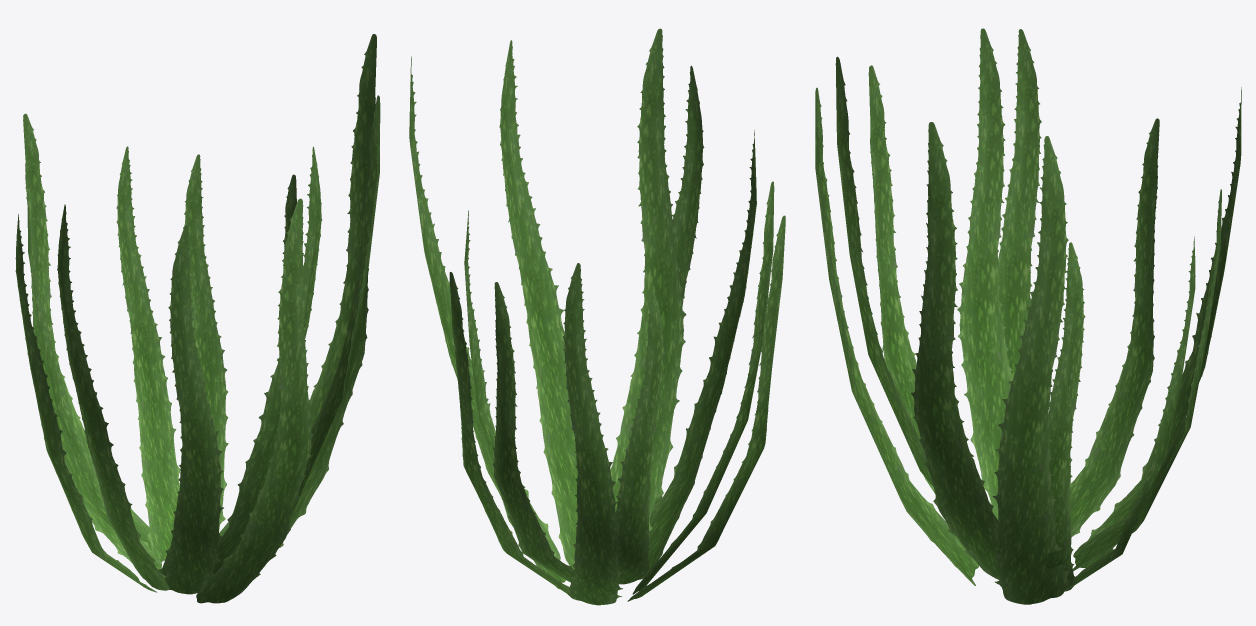
File: alo_2s.fbx
3 views of the same model, side by side, from view 1: azimuth 30°, elevation 25°; view 2: azimuth 150°, elevation 25°; view 3: azimuth 270°, elevation 25° (orthographic). The views are drawn at different scales.
Visible parts, largest first — view 1: Mesh; view 2: Mesh; view 3: Mesh.
Boxes of the visible parts, left/top/right/bottom form: Mesh: left=15, top=34, right=380, bottom=603; Mesh: left=409, top=28, right=785, bottom=605; Mesh: left=815, top=28, right=1241, bottom=604.
Size of the model in its own units: 250 by 342 by 229.
